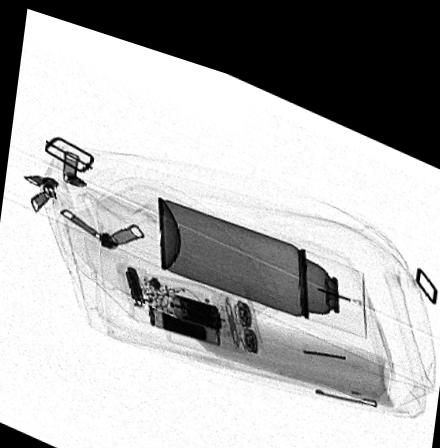Sprayer: (157, 185, 365, 314)
